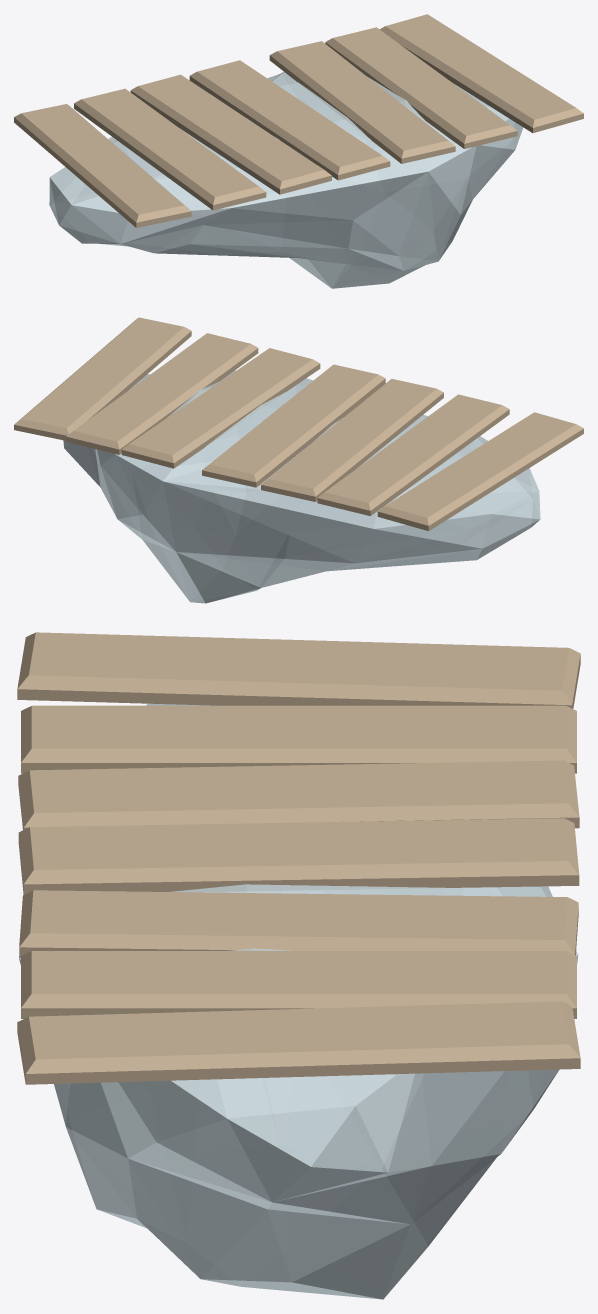
The model's file is FloatyPlataform.fbx.
3 renders of one model, top to bottom at view 1: azimuth 30°, elevation 25°; view 2: azimuth 150°, elevation 25°; view 3: azimuth 270°, elevation 25°, orthographic. The views are drawn at different scales.
Parts seen in each view (by area): view 1: Plane, Icosphere; view 2: Plane, Icosphere; view 3: Plane, Icosphere.
Boxes of the visible parts, left/top/right/bottom form: Plane: left=14, top=14, right=583, bottom=227; Icosphere: left=49, top=72, right=523, bottom=288; Plane: left=14, top=317, right=583, bottom=531; Icosphere: left=63, top=370, right=540, bottom=603; Plane: left=17, top=632, right=580, bottom=1084; Icosphere: left=18, top=703, right=578, bottom=1299.
Size of the model in its own units: 389 by 149 by 203.
